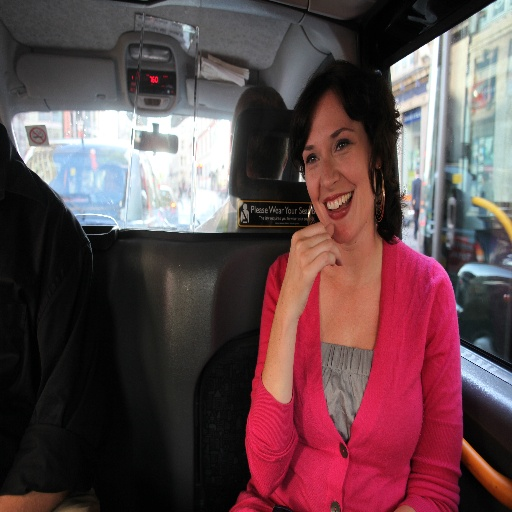hand: (268, 224, 334, 394)
